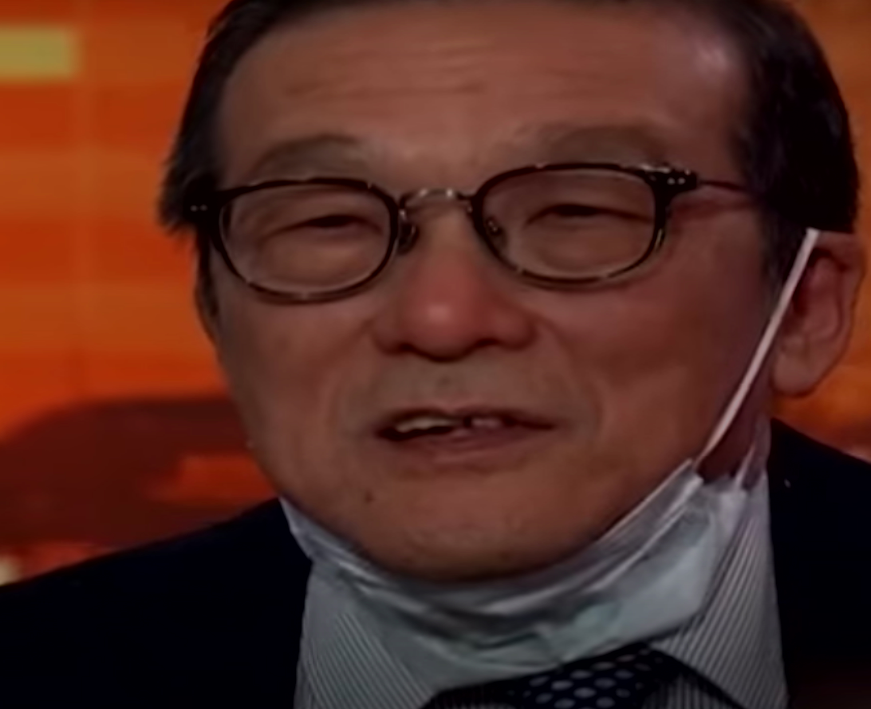mask_weared_incorrect: (162, 6, 870, 695)
